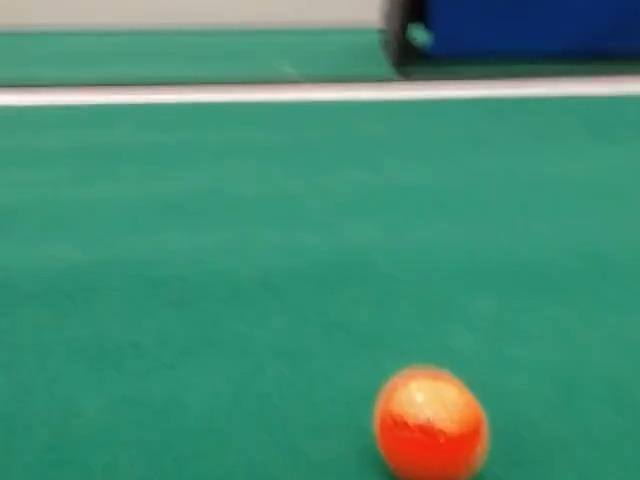Ball: (373, 366, 489, 479)
